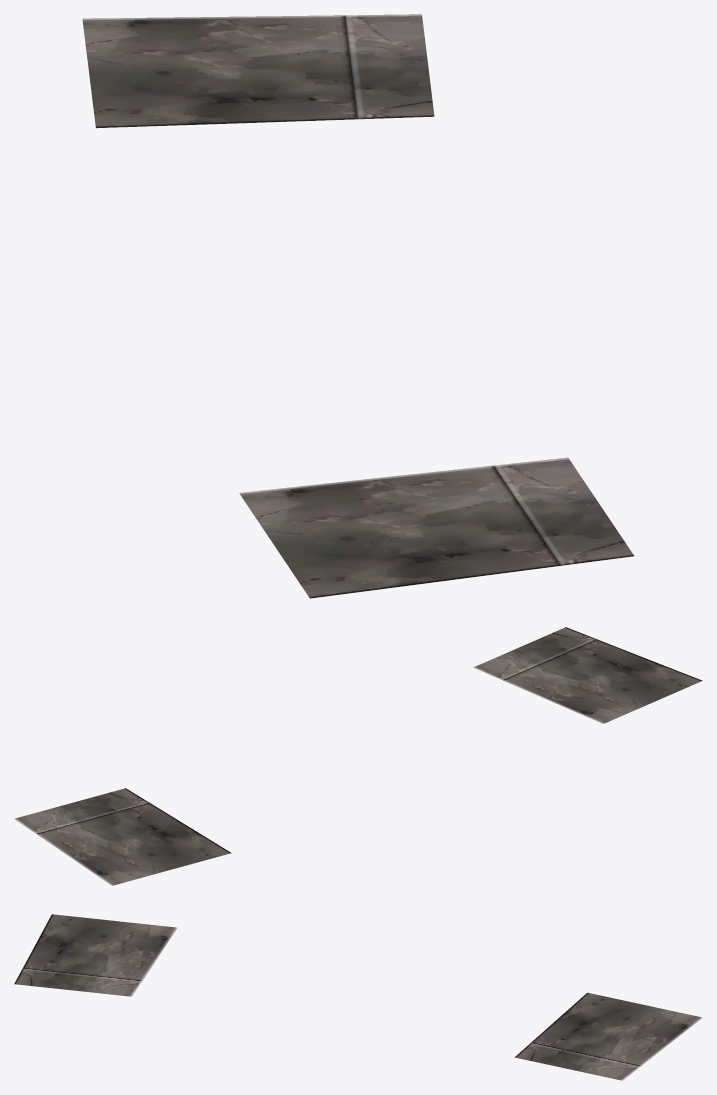
Rendered from CH09_SMAUG_PLAYSURFACE_LAIR149.fbx.
3 renders of one model, top to bottom at view 1: azimuth 30°, elevation 25°; view 2: azimuth 150°, elevation 25°; view 3: azimuth 270°, elevation 25°, orthographic. The views are drawn at different scales.
Visible parts, largest first — view 1: CH09_SMAUG_PLAYSURFACE_LAIR149; view 2: CH09_SMAUG_PLAYSURFACE_LAIR149; view 3: CH09_SMAUG_PLAYSURFACE_LAIR149.
Part boxes in pixels (x1,y1,x2,y2): CH09_SMAUG_PLAYSURFACE_LAIR149: (82,14,634,598); CH09_SMAUG_PLAYSURFACE_LAIR149: (14,627,702,885); CH09_SMAUG_PLAYSURFACE_LAIR149: (14,914,702,1080).
Size of the model in its own units: 25536 by 0.0132 by 44638.
Materials: 1 (1 with a texture image).
